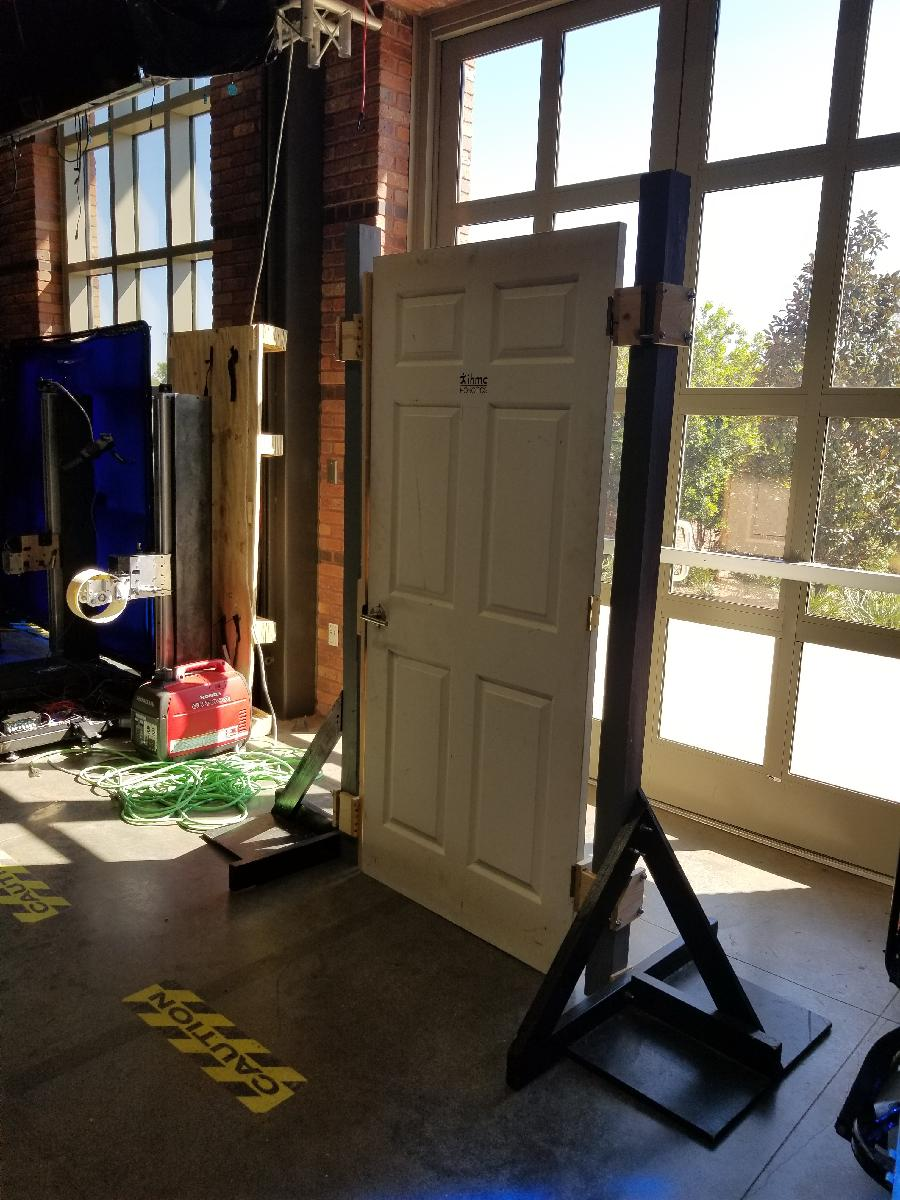door: (355, 220, 629, 1008)
doorHandle: (360, 605, 403, 628)
